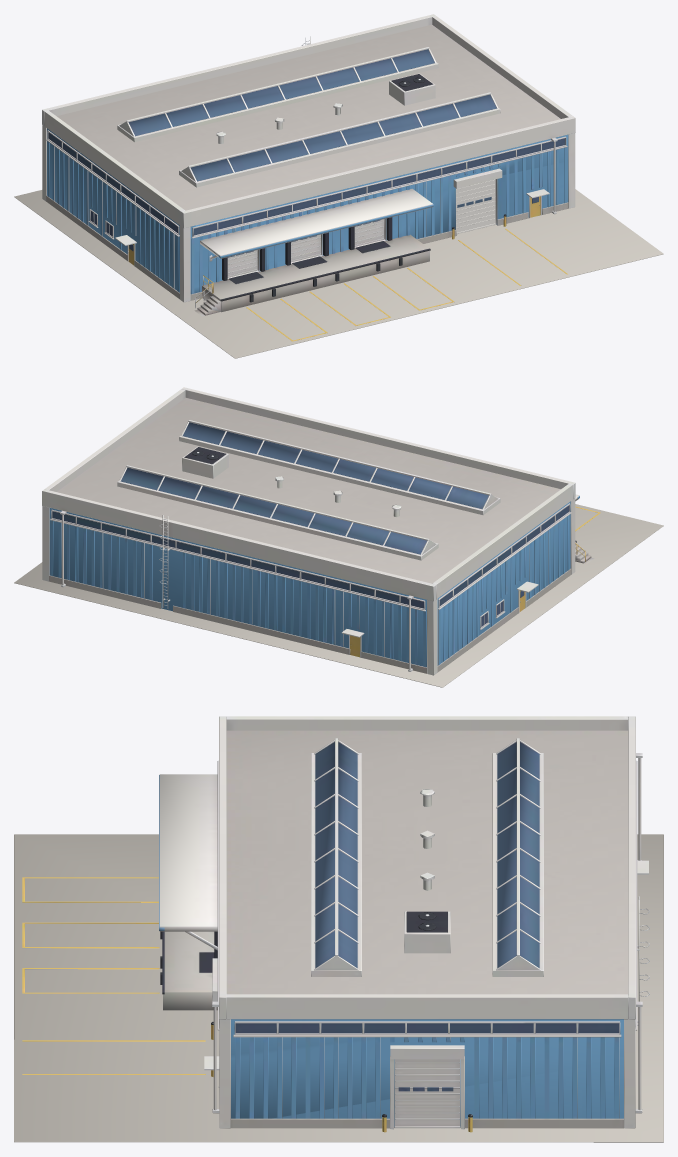
Rendered from bldg_warehouse.glb.
The picture shows the model from 3 angles, top to bottom: view 1: azimuth 30°, elevation 25°; view 2: azimuth 150°, elevation 25°; view 3: azimuth 270°, elevation 25°; orthographic projection. The views are drawn at different scales.
Parts seen in each view (by area): view 1: warehouse_body, warehouse_hall, warehouse_yard_slab, warehouse_roller_door; view 2: warehouse_body, warehouse_hall, warehouse_yard_slab; view 3: warehouse_hall, warehouse_body, warehouse_yard_slab.
Part boxes in pixels (box(x1,y1,x2,y2)): warehouse_body: box(42, 14, 575, 341); warehouse_hall: box(47, 24, 568, 294); warehouse_yard_slab: box(14, 189, 663, 358); warehouse_roller_door: box(456, 179, 495, 234); warehouse_body: box(42, 387, 600, 675); warehouse_hall: box(49, 397, 570, 667); warehouse_yard_slab: box(14, 504, 663, 687); warehouse_hall: box(226, 730, 628, 1126); warehouse_body: box(22, 716, 649, 1132); warehouse_yard_slab: box(14, 834, 663, 1142).
Size of the model in its own units: 44 by 9.54 by 39.3.
5 materials, 2 textured.
